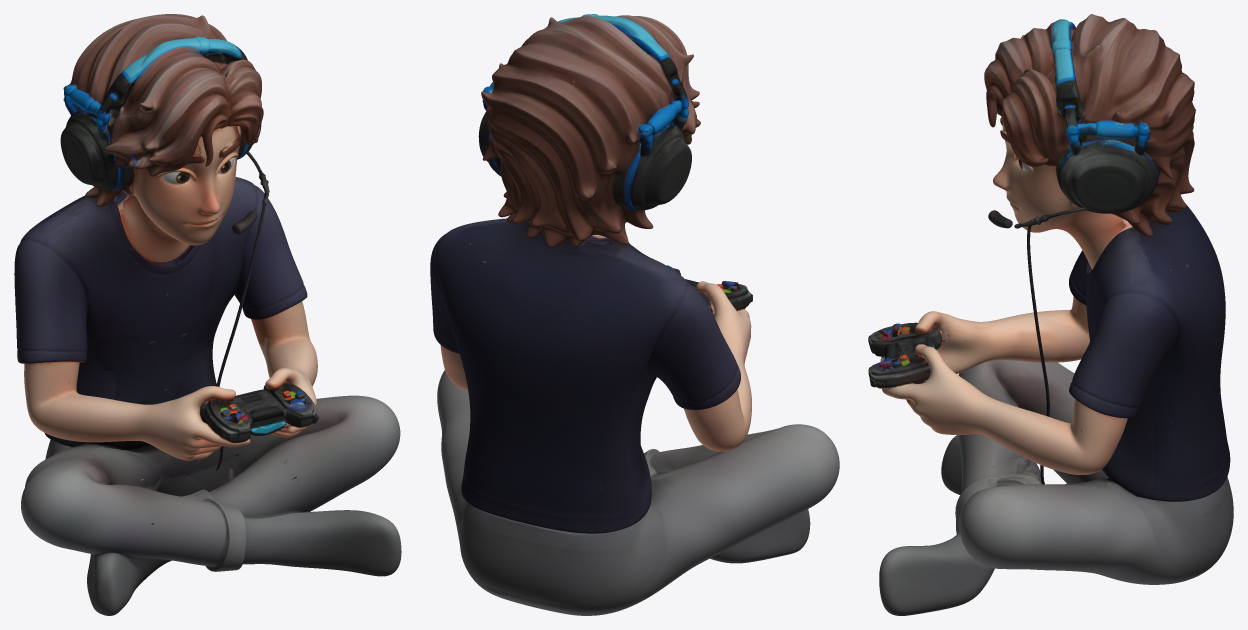
Rendered from excessive_gamer.glb.
3 views of the same model, side by side, from view 1: azimuth 30°, elevation 25°; view 2: azimuth 150°, elevation 25°; view 3: azimuth 270°, elevation 25° (orthographic). The views are drawn at different scales.
Bounding box in the file's own units: 1.4 × 1.9 × 1.17.
Materials: 1 (1 with a texture image).
